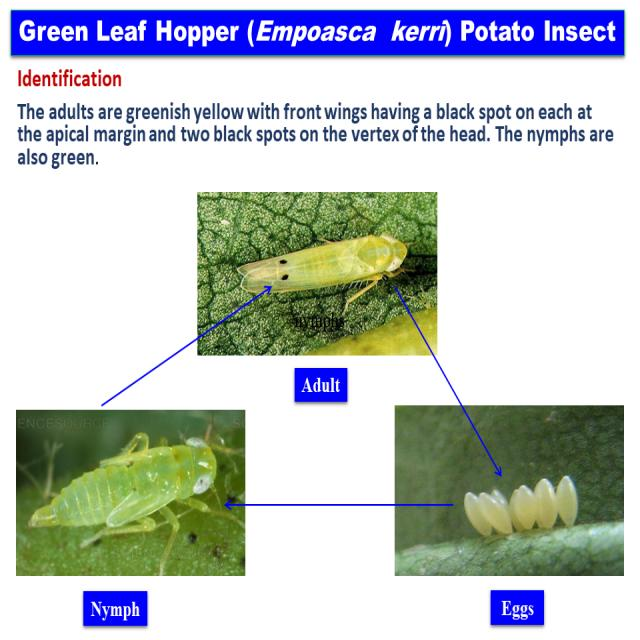Yechan: (235, 225, 421, 309)
